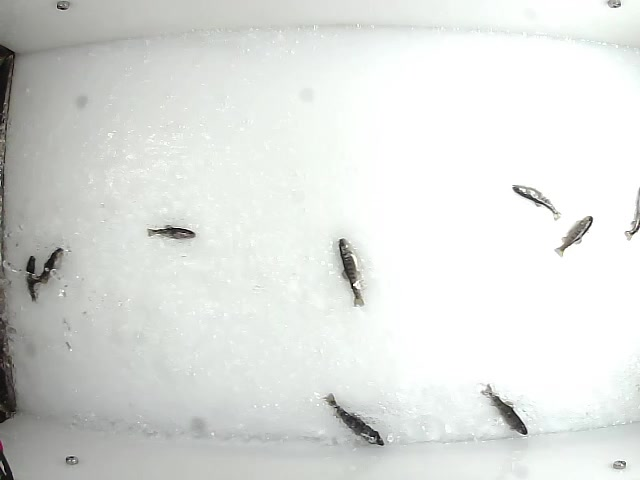fish: (321, 390, 387, 447), (480, 383, 530, 438), (338, 235, 367, 309), (510, 182, 561, 224), (551, 215, 594, 260), (31, 244, 63, 287), (144, 222, 197, 241), (22, 255, 39, 304)
